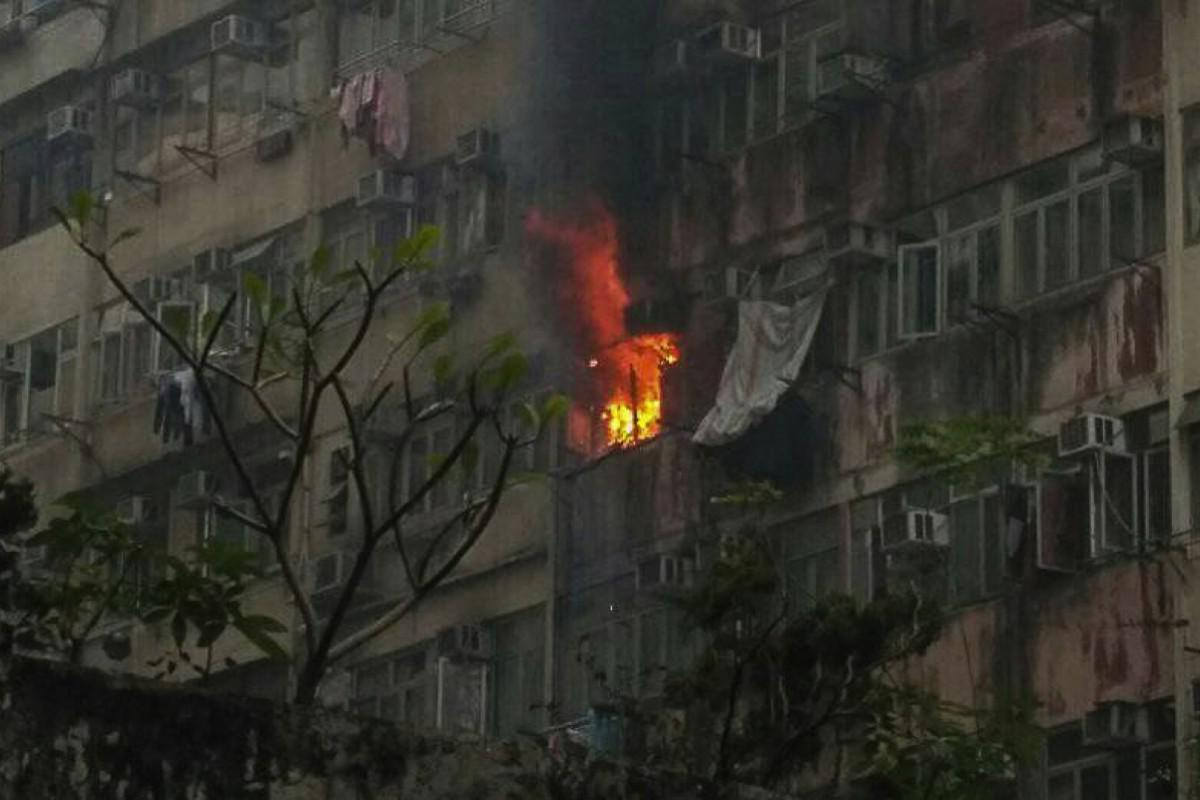Fire: (597, 331, 676, 447)
